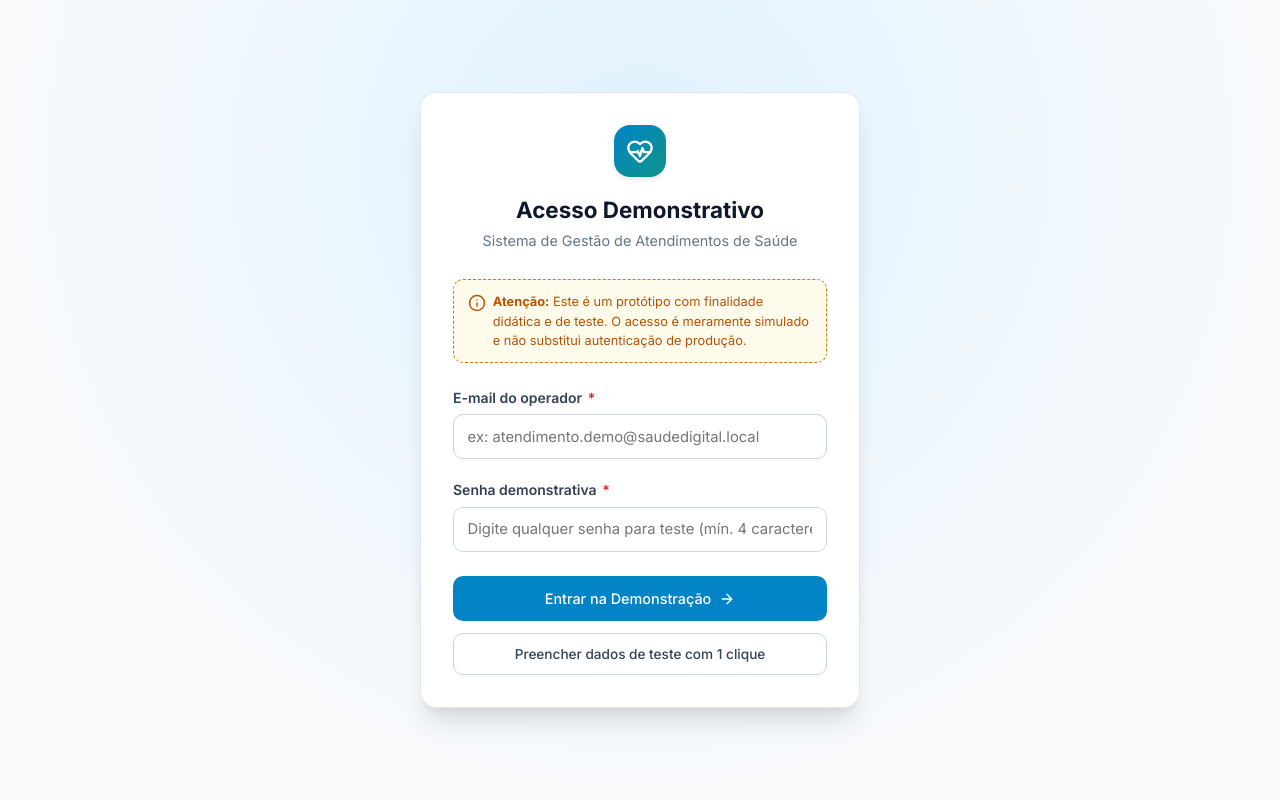
Scenario: Gestão de Atendimentos de Saúde - Testes Funcionais › Área de Gestão e CRUD de Atendimentos › renderiza os atendimentos fictícios padrão após o login
# Efetua login demo
Click the button "Preencher dados de teste com 1 clique" at (640, 654), box x1=453 y1=633 x2=827 y2=675
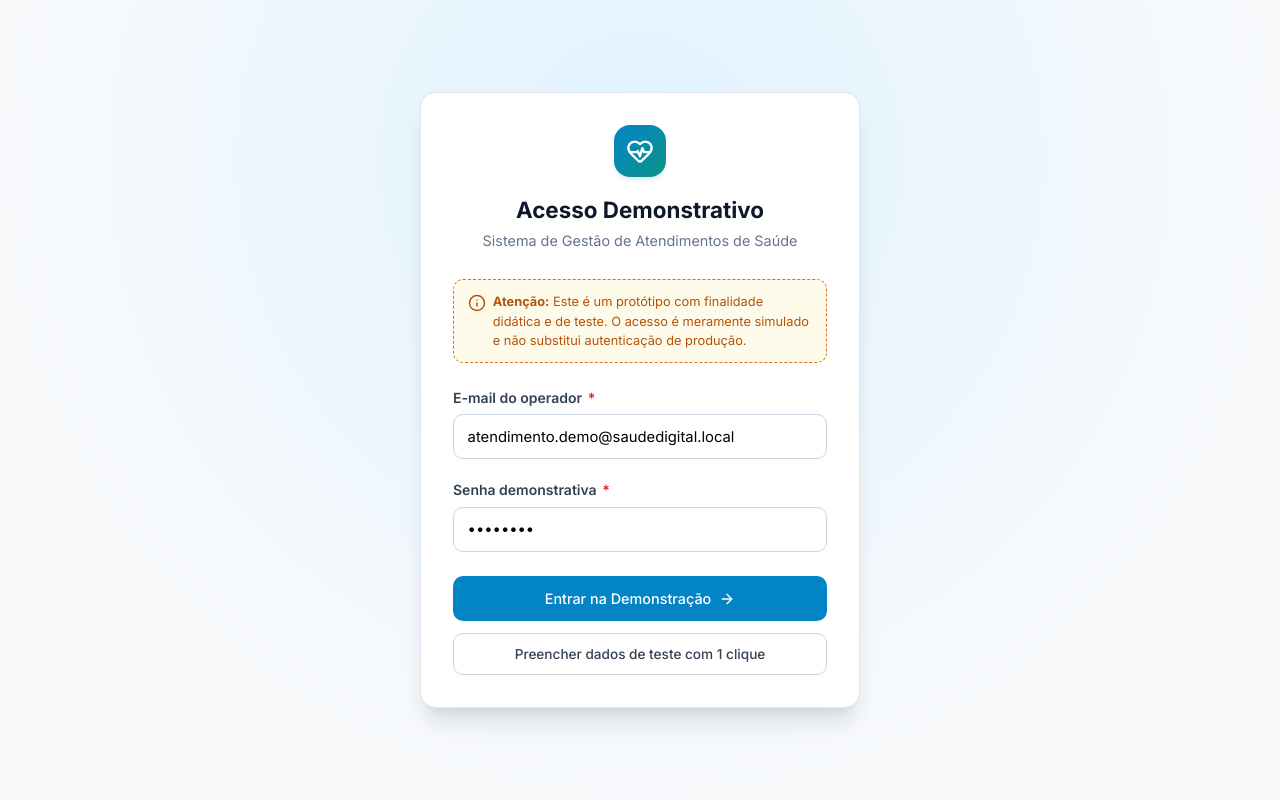
Click the button "Entrar na Demonstração" at (640, 599), box x1=453 y1=576 x2=827 y2=621
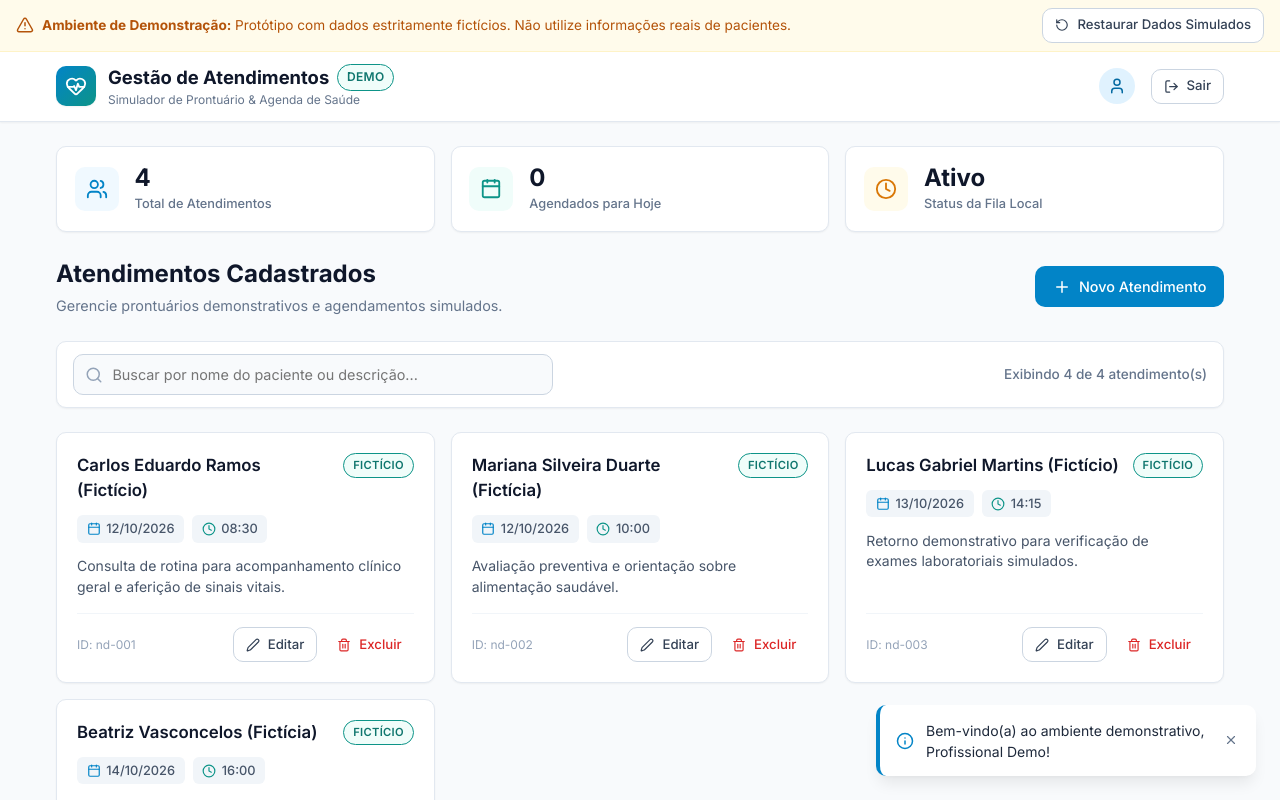
Now the heading "Atendimentos Cadastrados" is shown, box x1=56 y1=259 x2=376 y2=288
Now the heading "Carlos Eduardo Ramos (Fictício)" is shown, box x1=77 y1=455 x2=261 y2=500
Now the heading "Mariana Silveira Duarte (Fictícia)" is shown, box x1=472 y1=455 x2=660 y2=500
